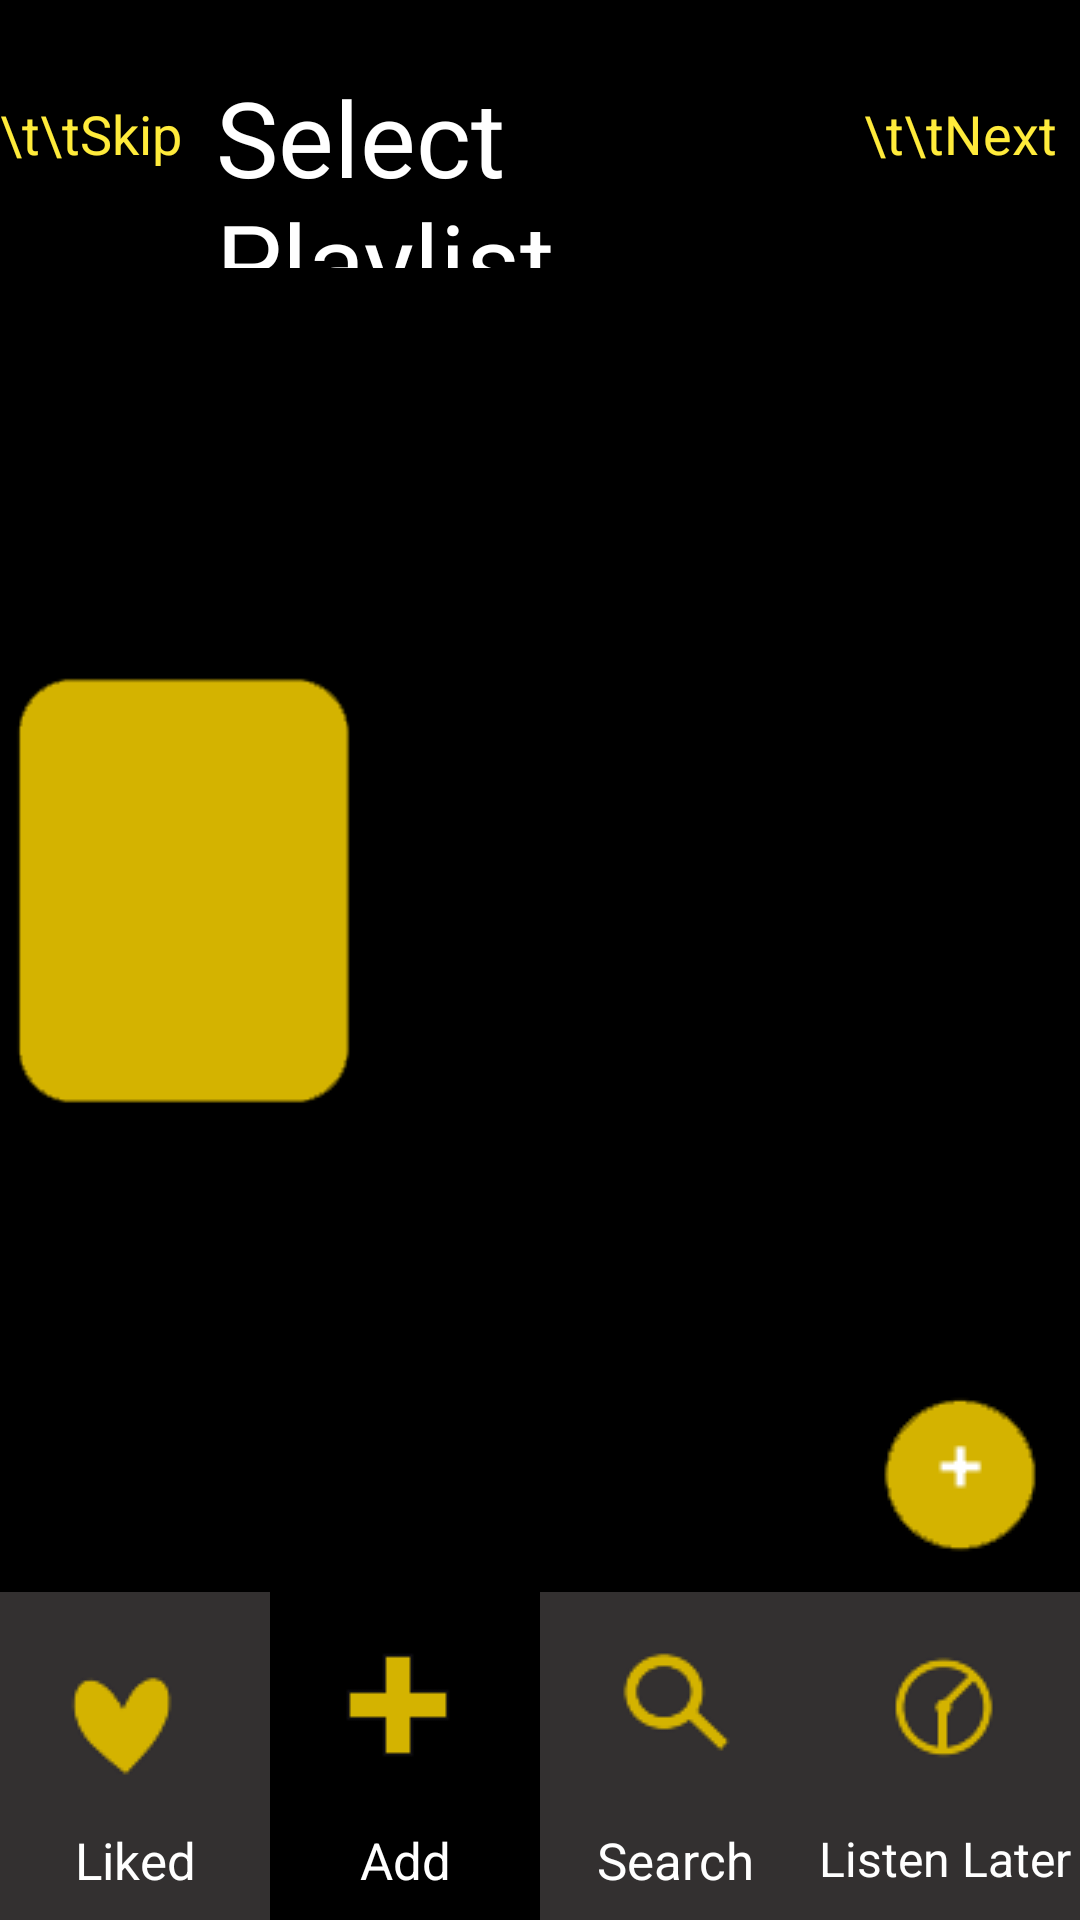

Icons on this 1080px×1920px Android screen, each with its box as detection(x1, y1, x2, y2):
addbutton: detection(884, 1400, 1036, 1551)
